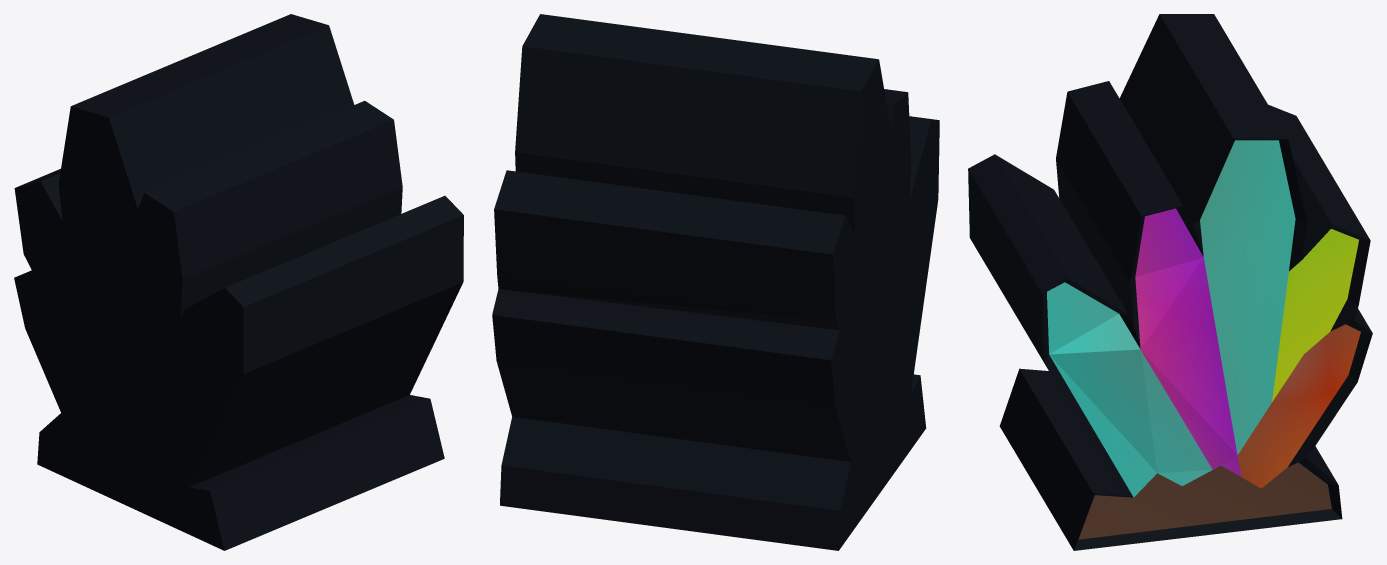
Rendered from CRYSTALS PIN.fbx.
3 renders of one model, left to right at view 1: azimuth 30°, elevation 25°; view 2: azimuth 150°, elevation 25°; view 3: azimuth 270°, elevation 25°, orthographic. The views are drawn at different scales.
Parts seen in each view (by area): view 1: CRYSTALS_PIN; view 2: CRYSTALS_PIN; view 3: CRYSTALS_PIN.
Part boxes in pixels (box(x1,y1,x2,y2)): CRYSTALS_PIN: box(14, 14, 463, 550); CRYSTALS_PIN: box(492, 14, 939, 550); CRYSTALS_PIN: box(968, 14, 1372, 550).
Bounding box in the file's own units: 5.88 × 6.7 × 6.2.
